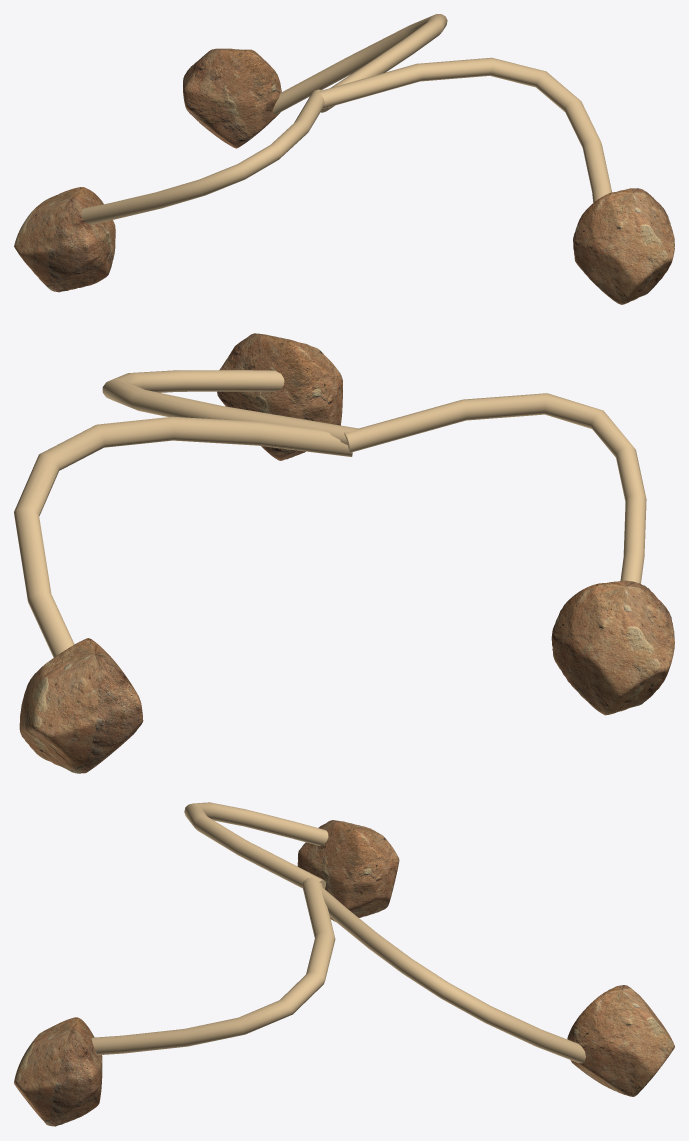
Rendered from boleadoras.dae.
3 renders of one model, top to bottom at view 1: azimuth 30°, elevation 25°; view 2: azimuth 150°, elevation 25°; view 3: azimuth 270°, elevation 25°, orthographic. The views are drawn at different scales.
Parts seen in each view (by area): view 1: boleadoras; view 2: boleadoras; view 3: boleadoras.
Boxes of the visible parts, <box> form: boleadoras: <box>14,14,674,304</box>; boleadoras: <box>14,333,674,773</box>; boleadoras: <box>14,802,674,1126</box>.
Bounding box in the file's own units: 1.37 × 1.55 × 0.4886.
6 materials, 6 textured.
